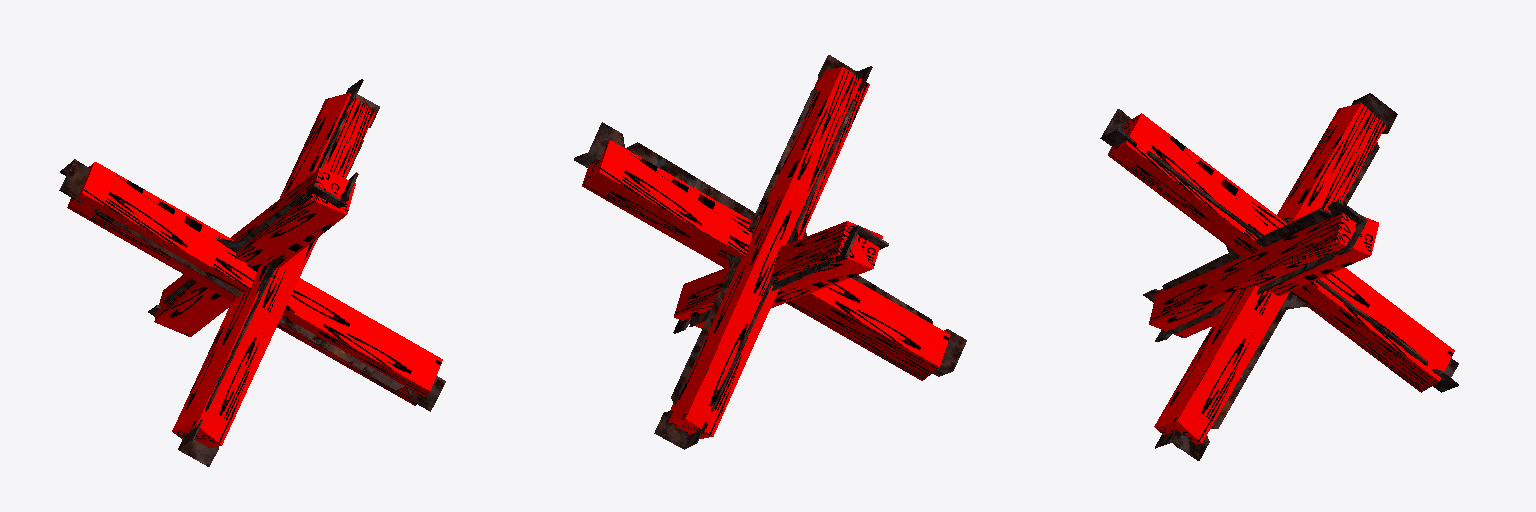
The picture shows the model from 3 angles: view 1: azimuth 30°, elevation 25°; view 2: azimuth 150°, elevation 25°; view 3: azimuth 270°, elevation 25°; orthographic projection.
Visible parts, largest first — view 1: clipbox, hedgehog; view 2: clipbox, hedgehog; view 3: clipbox, hedgehog.
Part boxes in pixels (bbox=[...]): clipbox: bbox=[67, 93, 442, 447]; hedgehog: bbox=[59, 79, 445, 466]; clipbox: bbox=[582, 67, 950, 438]; hedgehog: bbox=[574, 55, 966, 449]; clipbox: bbox=[1108, 103, 1454, 448]; hedgehog: bbox=[1100, 93, 1458, 460].
Size of the model in its own units: 55.27 by 46.56 by 54.05.
Materials: 2 (2 with a texture image).